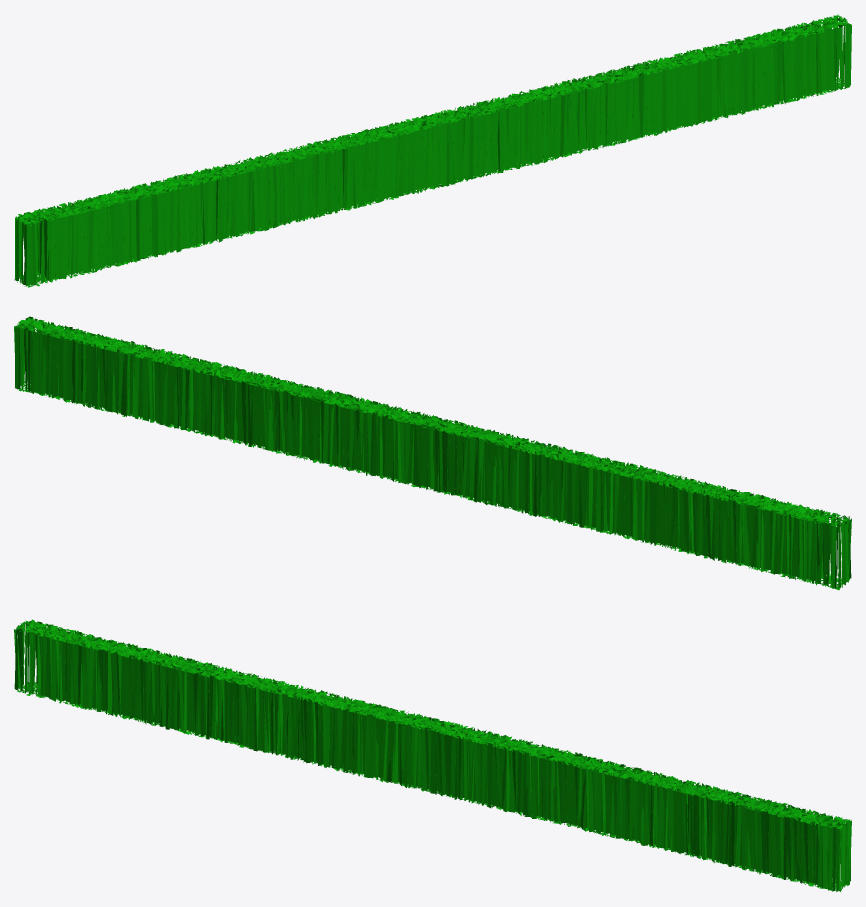
Rendered from pastoAtras.fbx.
3 renders of one model, top to bottom at view 1: azimuth 30°, elevation 25°; view 2: azimuth 150°, elevation 25°; view 3: azimuth 330°, elevation 25°, orthographic.
Visible parts, largest first — view 1: pasto_atras_fondo.001, pasto_atras_fondo.002; view 2: pasto_atras_fondo.001, pasto_atras_fondo.002; view 3: pasto_atras_fondo.001, pasto_atras_fondo.002.
Boxes of the visible parts, bbox=[...] form: pasto_atras_fondo.001: bbox=[14, 14, 851, 287]; pasto_atras_fondo.002: bbox=[37, 24, 827, 279]; pasto_atras_fondo.001: bbox=[14, 316, 851, 590]; pasto_atras_fondo.002: bbox=[38, 326, 827, 581]; pasto_atras_fondo.001: bbox=[14, 619, 851, 891]; pasto_atras_fondo.002: bbox=[39, 628, 827, 883].
Size of the model in its own units: 25141 by 1926 by 735.
